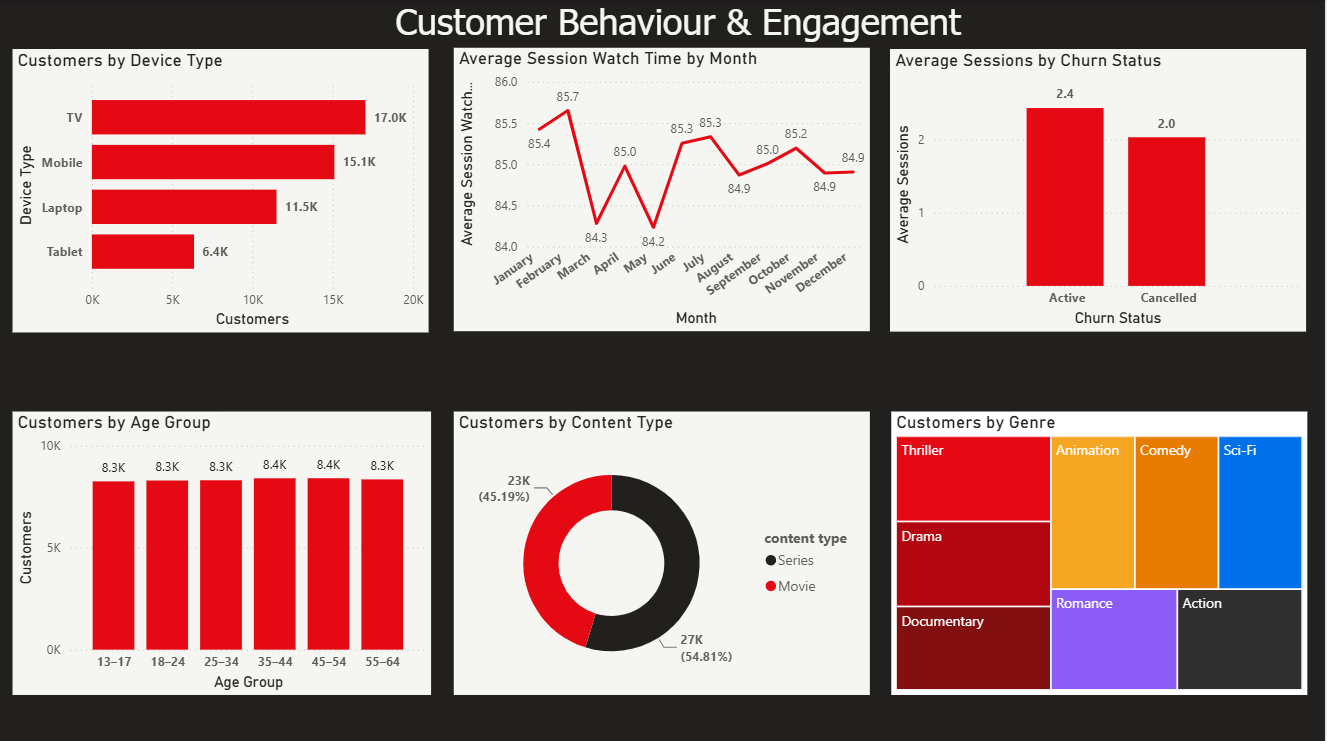

This screenshot's page, from the dashboard's own definition file:
{"tool":"powerbi","page":{"name":"Customer Behaviour","canvas":[1280,720],"ordinal":1},"visuals":[{"type":"clusteredColumnChart","fields":{"Category":["netflix.Age Group"],"Y":["netflix.Total Customers"]},"box":[12.1,398.1,404.2,273.9],"z":0},{"type":"barChart","fields":{"Category":["netflix.device_type"],"Y":["netflix.Total Customers"]},"box":[12.1,48.3,401.7,273.9],"z":1000},{"type":"clusteredColumnChart","fields":{"Category":["netflix.churn_status"],"Y":["netflix.Average Sessions"]},"box":[859,48.3,401.7,272.7],"z":2000},{"type":"donutChart","fields":{"Category":["netflix.content_type"],"Y":["netflix.Total Customers"]},"box":[437.9,398.1,401.7,273.9],"z":3000},{"type":"textbox","title":"Customer Behaviour & Engagement","box":[360.7,0,587.5,48.3],"z":4000},{"type":"lineChart","fields":{"Category":["netflix.date_watched.Variation.Date Hierarchy.Month"],"Y":["netflix.Average Watch Time"]},"box":[437.9,47.1,401.7,273.9],"z":5000},{"type":"treemap","fields":{"Group":["netflix.genre"],"Values":["netflix.Total Customers"]},"box":[860.2,398.1,401.7,273.9],"z":6000}]}

Visuals, with their boxes in screenshot pixels (x1, y1, x2, y2), scaled from the page's 1280x720 canvas onto the 1327x741 screenshot:
clusteredColumnChart - netflix.Age Group x netflix.Total Customers: [13, 410, 432, 692]
barChart - netflix.device_type x netflix.Total Customers: [13, 50, 429, 332]
clusteredColumnChart - netflix.churn_status x netflix.Average Sessions: [891, 50, 1307, 330]
donutChart - netflix.content_type x netflix.Total Customers: [454, 410, 870, 692]
"Customer Behaviour & Engagement" textbox: [374, 0, 983, 50]
lineChart - netflix.date_watched.Variation.Date Hierarchy.Month x netflix.Average Watch Time: [454, 48, 870, 330]
treemap - netflix.genre x netflix.Total Customers: [892, 410, 1308, 692]
